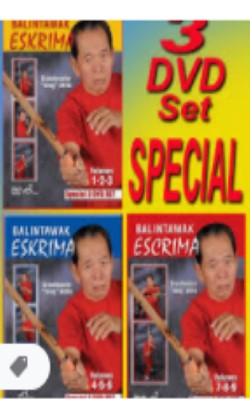baston_e: (6, 277, 67, 371), (133, 279, 189, 370), (4, 72, 59, 162)
